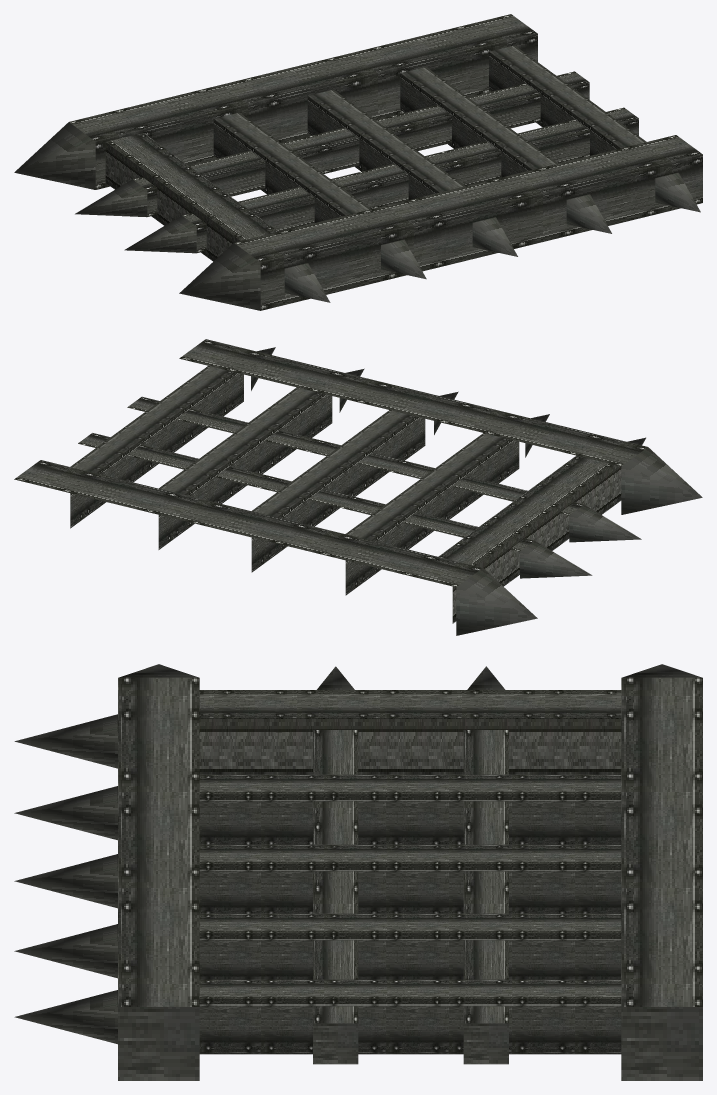
3 renders of one model, top to bottom at view 1: azimuth 30°, elevation 25°; view 2: azimuth 150°, elevation 25°; view 3: azimuth 270°, elevation 25°, orthographic. The views are drawn at different scales.
Visible parts, largest first — view 1: model_Object87; view 2: model_Object87; view 3: model_Object87.
Boxes of the visible parts, x1,y1,x2,y2 form: model_Object87: (14, 14, 702, 310); model_Object87: (14, 339, 702, 635); model_Object87: (14, 664, 702, 1080).
Bounding box in the file's own units: 4.01 × 0.3643 × 3.07.
Materials: 1 (1 with a texture image).
